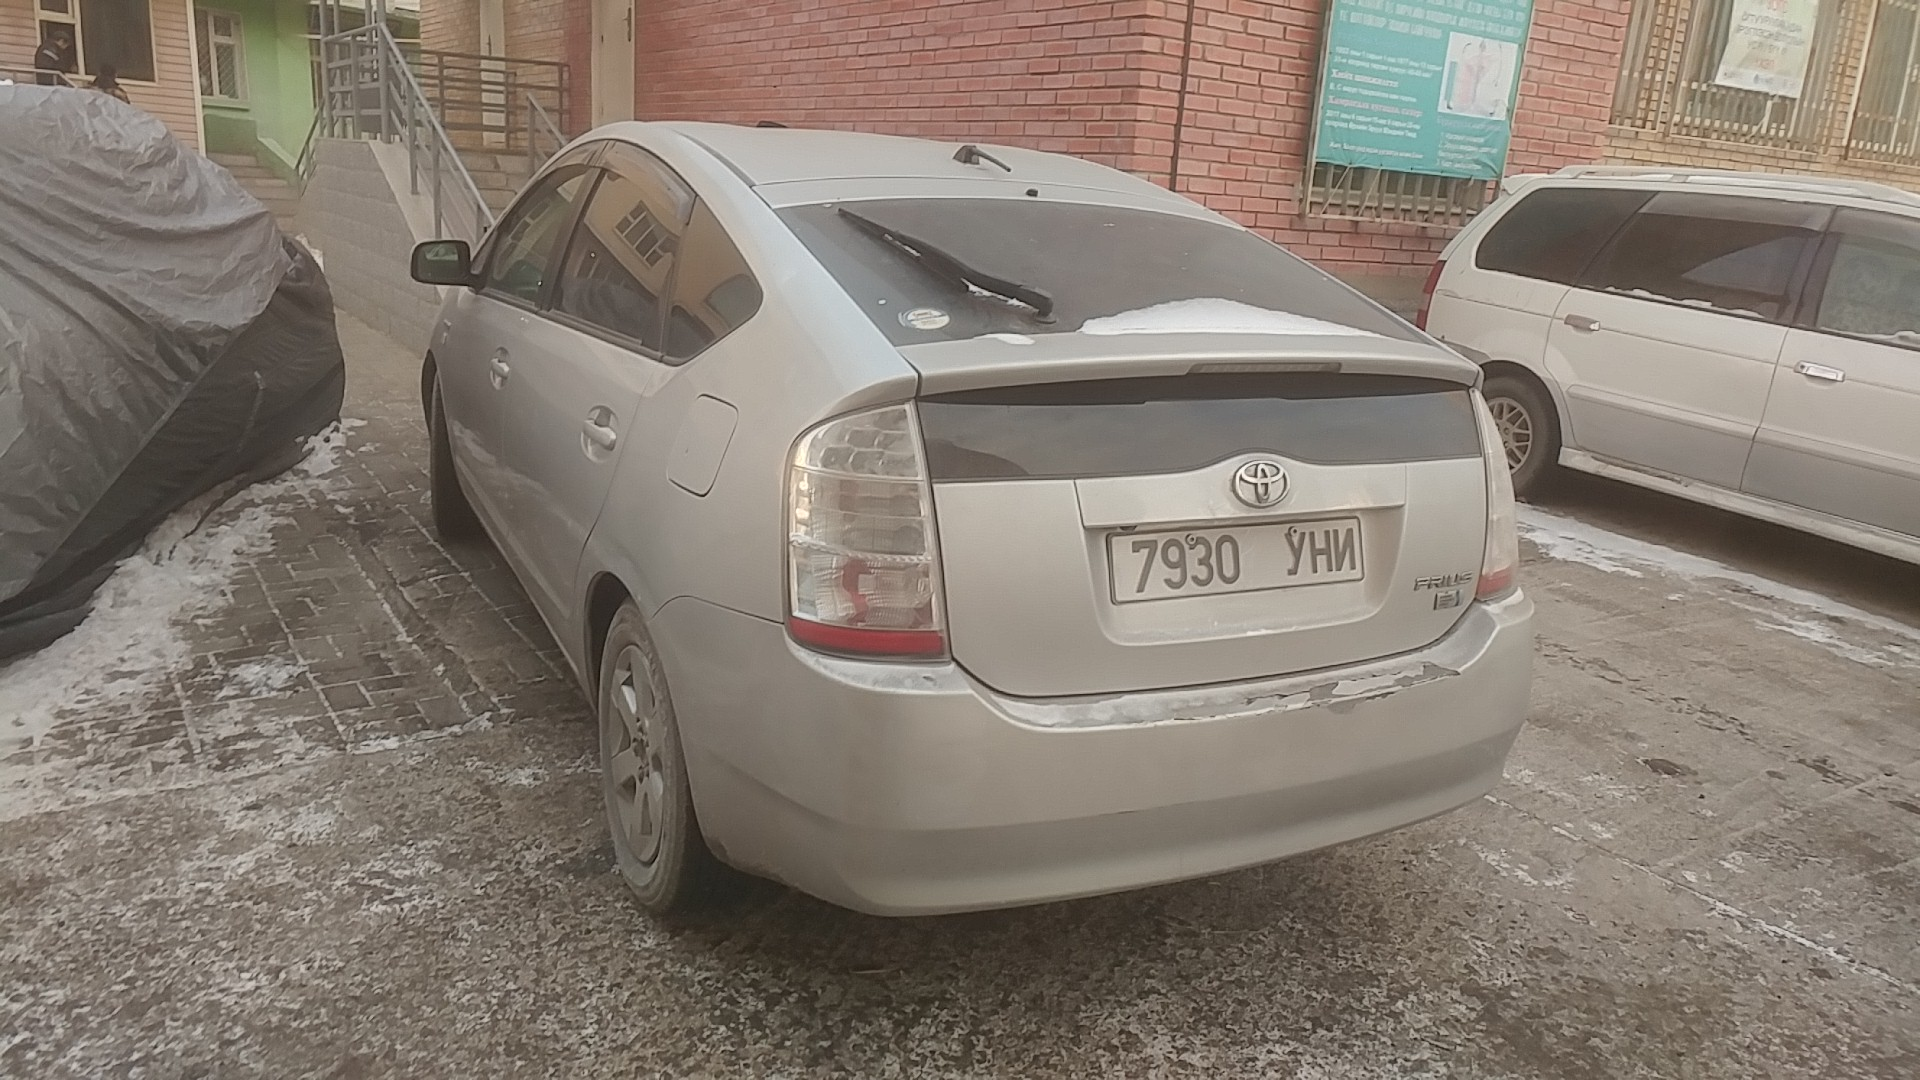0: (1213, 530, 1244, 586)
3: (1188, 534, 1215, 587)
7: (1131, 539, 1160, 594)
9: (1160, 536, 1189, 590)
i: (1333, 523, 1359, 574)
n: (1307, 527, 1336, 574)
plate: (1103, 511, 1376, 604)
u: (1281, 529, 1308, 578)
